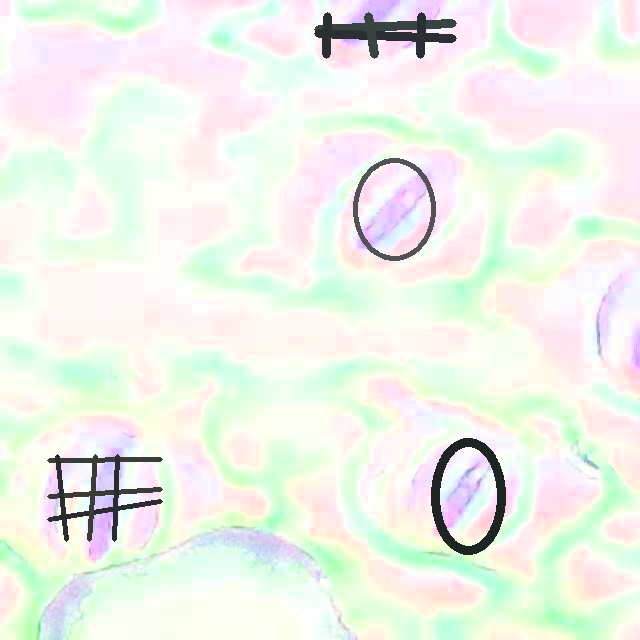open: (47, 454, 162, 541), (431, 437, 506, 555), (352, 157, 436, 261), (314, 13, 456, 57)
